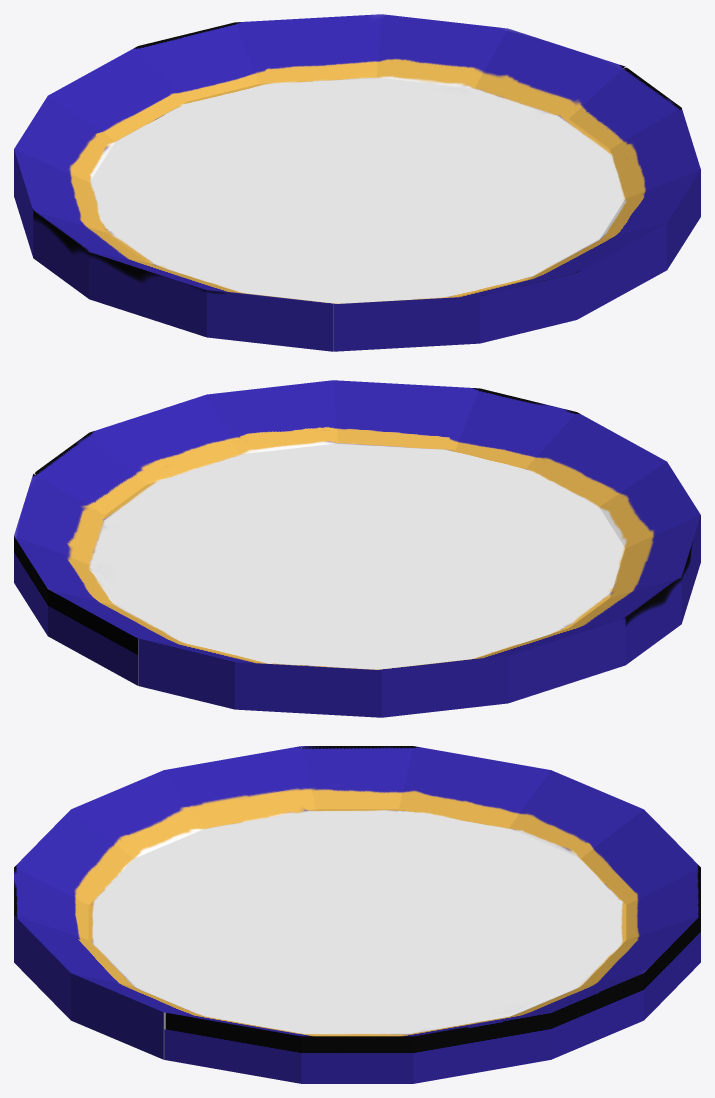
Rendered from Plate-V.4.fbx.
3 views of the same model, one above another, from view 1: azimuth 30°, elevation 25°; view 2: azimuth 150°, elevation 25°; view 3: azimuth 270°, elevation 25° (orthographic).
Visible parts, largest first — view 1: Plate; view 2: Plate; view 3: Plate.
Boxes of the visible parts, x1=… form: Plate: x1=14, y1=14, x2=700, y2=351; Plate: x1=14, y1=380, x2=700, y2=717; Plate: x1=14, y1=746, x2=700, y2=1083.
Bounding box in the file's own units: 255 × 19.47 × 255.
